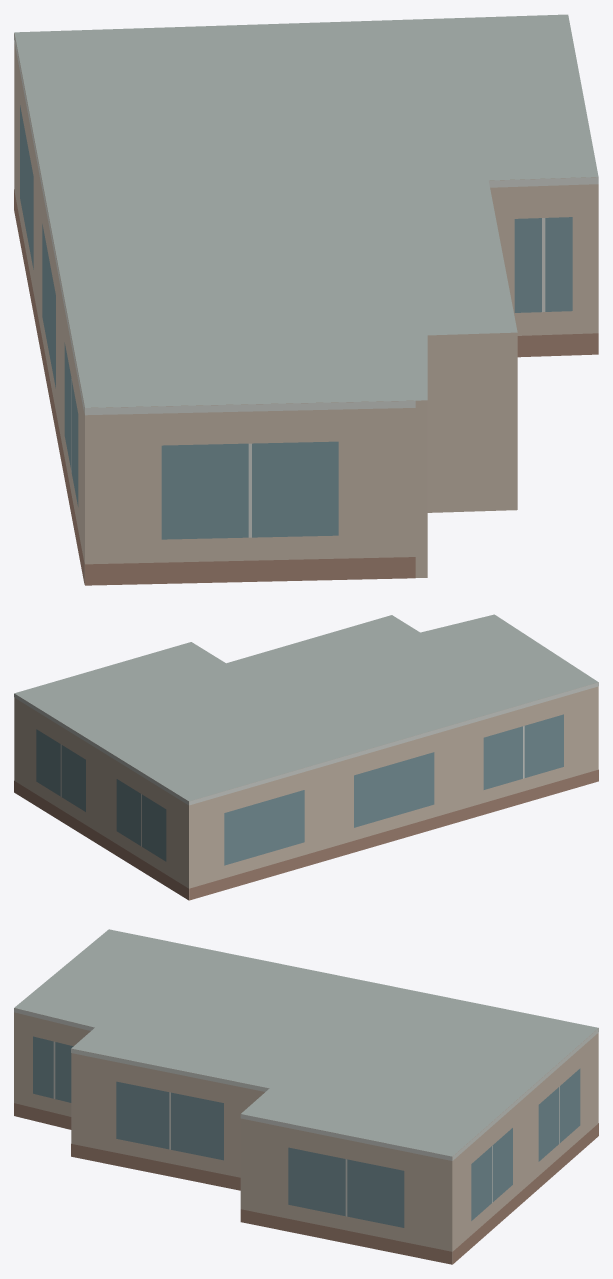
The model's file is survey-upis-32723863.glb.
3 renders of one model, top to bottom at view 1: azimuth 30°, elevation 25°; view 2: azimuth 150°, elevation 25°; view 3: azimuth 270°, elevation 25°, orthographic. The views are drawn at different scales.
Visible parts, largest first — view 1: survey-upis-32723863.tmp; view 2: survey-upis-32723863.tmp; view 3: survey-upis-32723863.tmp.
Part boxes in pixels (x1,y1,x2,y2): survey-upis-32723863.tmp: [14, 14, 598, 585]; survey-upis-32723863.tmp: [14, 614, 598, 900]; survey-upis-32723863.tmp: [14, 929, 598, 1264].
Size of the model in its own units: 13.77 by 3.05 by 14.97.
